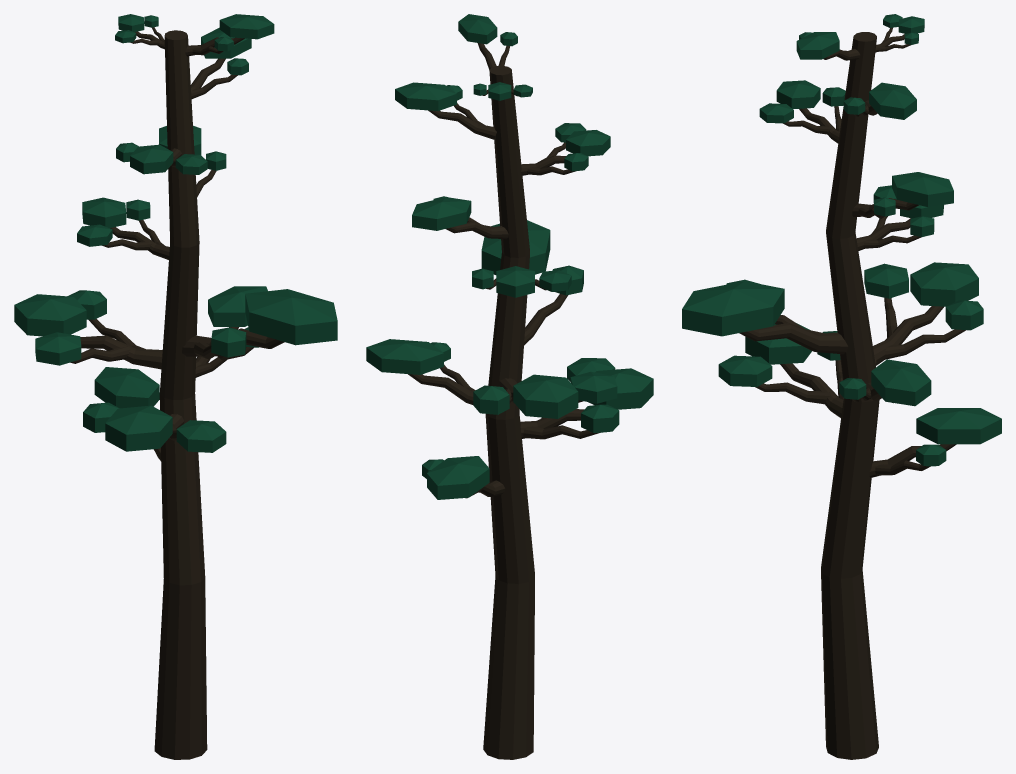
File: Tree.fbx
3 renders of one model, left to right at view 1: azimuth 30°, elevation 25°; view 2: azimuth 150°, elevation 25°; view 3: azimuth 270°, elevation 25°, orthographic. The views are drawn at different scales.
Visible parts, largest first — view 1: Sphere.007; view 2: Sphere.007; view 3: Sphere.007.
Boxes of the visible parts, bbox=[...] form: Sphere.007: bbox=[14, 14, 337, 759]; Sphere.007: bbox=[366, 14, 653, 759]; Sphere.007: bbox=[682, 14, 1001, 759].
Bounding box in the file's own units: 1237 × 3530 × 1390.
